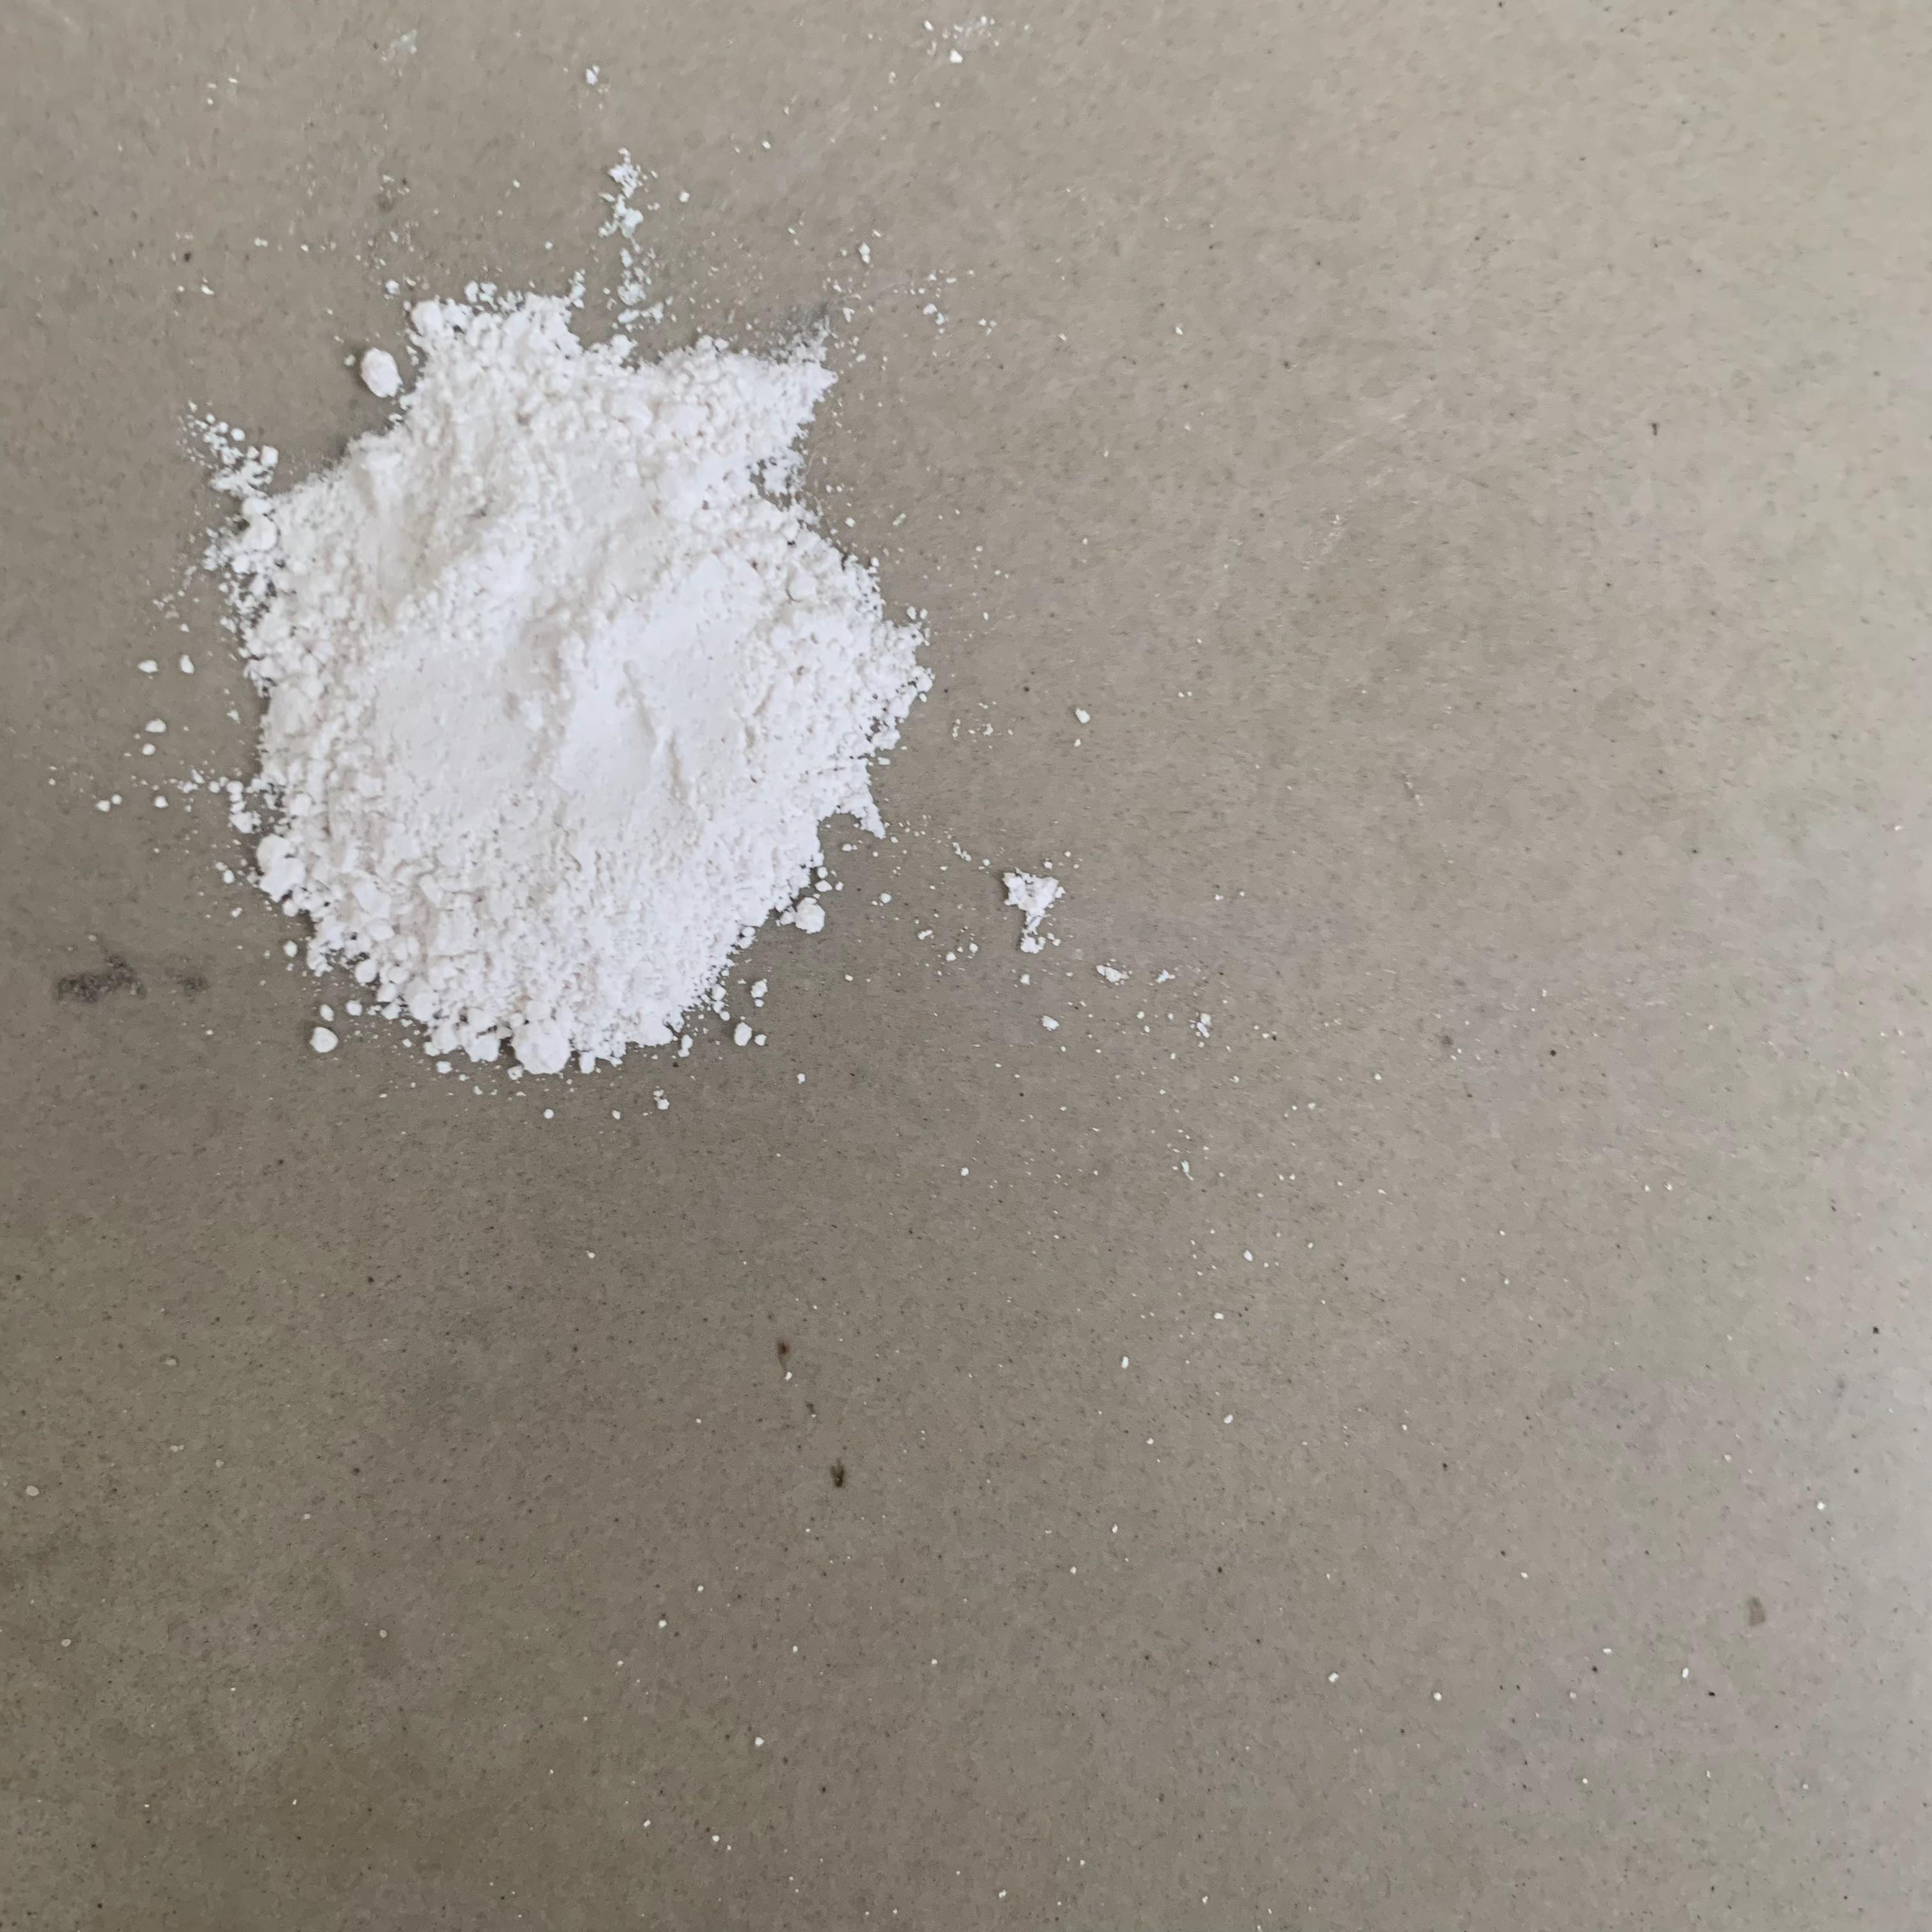ash pile: (184, 281, 943, 1083)
